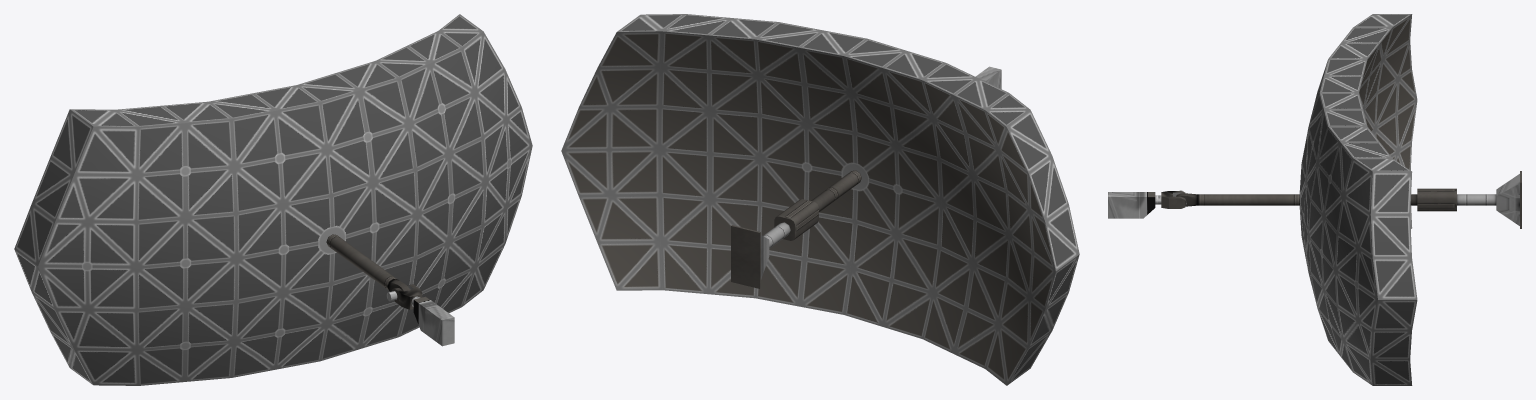
File: priroda sar.obj
3 renders of one model, left to right at view 1: azimuth 30°, elevation 25°; view 2: azimuth 150°, elevation 25°; view 3: azimuth 270°, elevation 25°, orthographic. The views are drawn at different scales.
Visible parts, largest first — view 1: 3, 2; view 2: 3, 2; view 3: 3, 2.
Part boxes in pixels (<box>): 3: <box>14,14,532,385</box>; 2: <box>326,234,454,346</box>; 3: <box>561,14,1079,385</box>; 2: <box>731,66,1001,288</box>; 3: <box>1299,14,1417,385</box>; 2: <box>1108,171,1521,228</box>.
Size of the model in its own units: 3 by 1.5 by 2.62.
2 materials, 2 textured.
